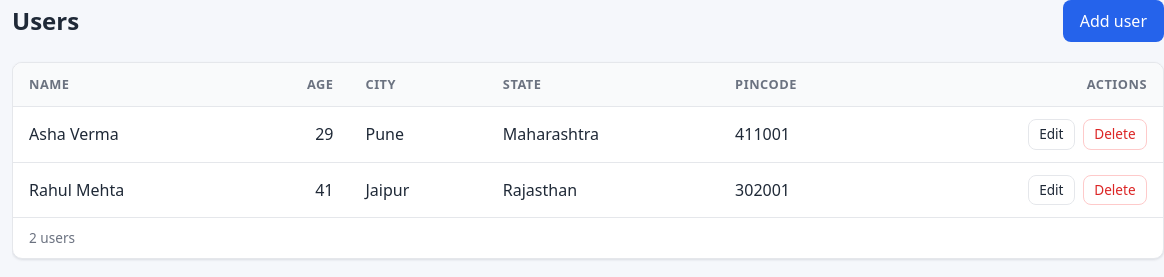
Test: UserListPage › keeps the row and shows an error toast when deleting fails
This screenshot has width=1164, height=277.
Click the button with aria-label "Delete Asha Verma".
click(1115, 134)  # box x1=1083 y1=119 x2=1147 y2=150
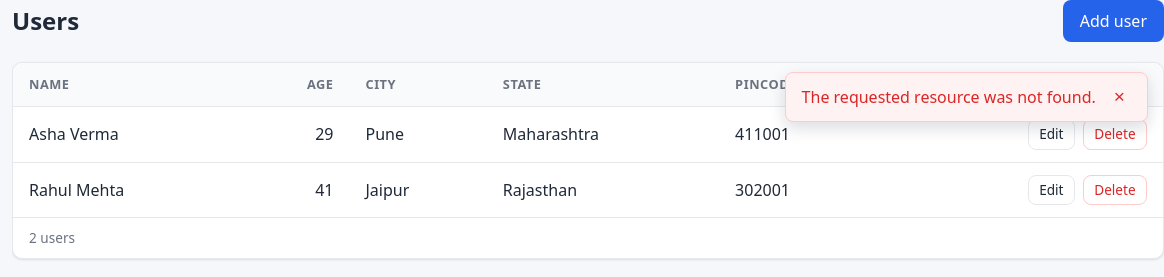
Check: the text "Asha Verma" is shown, box x1=13 y1=107 x2=243 y2=162
Check: the message shows "The requested resource was not found.", box x1=802 y1=86 x2=1096 y2=108
